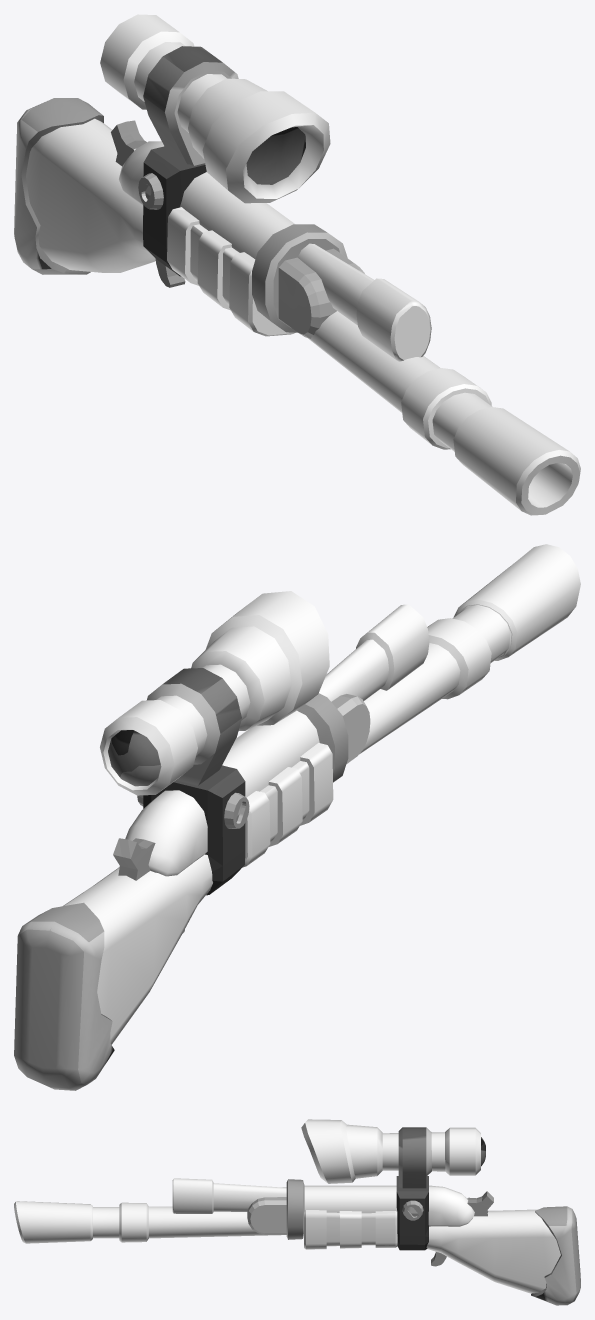
3 views of the same model, one above another, from view 1: azimuth 30°, elevation 25°; view 2: azimuth 150°, elevation 25°; view 3: azimuth 270°, elevation 25° (orthographic). The views are drawn at different scales.
Parts seen in each view (by area): view 1: Weap_group1Weap5; view 2: Weap_group1Weap5; view 3: Weap_group1Weap5.
Part boxes in pixels (x1,y1,x2,y2): Weap_group1Weap5: [14, 14, 580, 515]; Weap_group1Weap5: [14, 544, 580, 1090]; Weap_group1Weap5: [14, 1119, 580, 1305].
Size of the model in its own units: 2.32 by 6.89 by 19.66.
